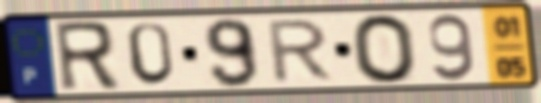0: (123, 21, 177, 88)
9: (200, 15, 263, 91), (426, 11, 478, 84)
O: (348, 12, 421, 86)
R: (50, 19, 123, 95), (266, 17, 338, 86)
